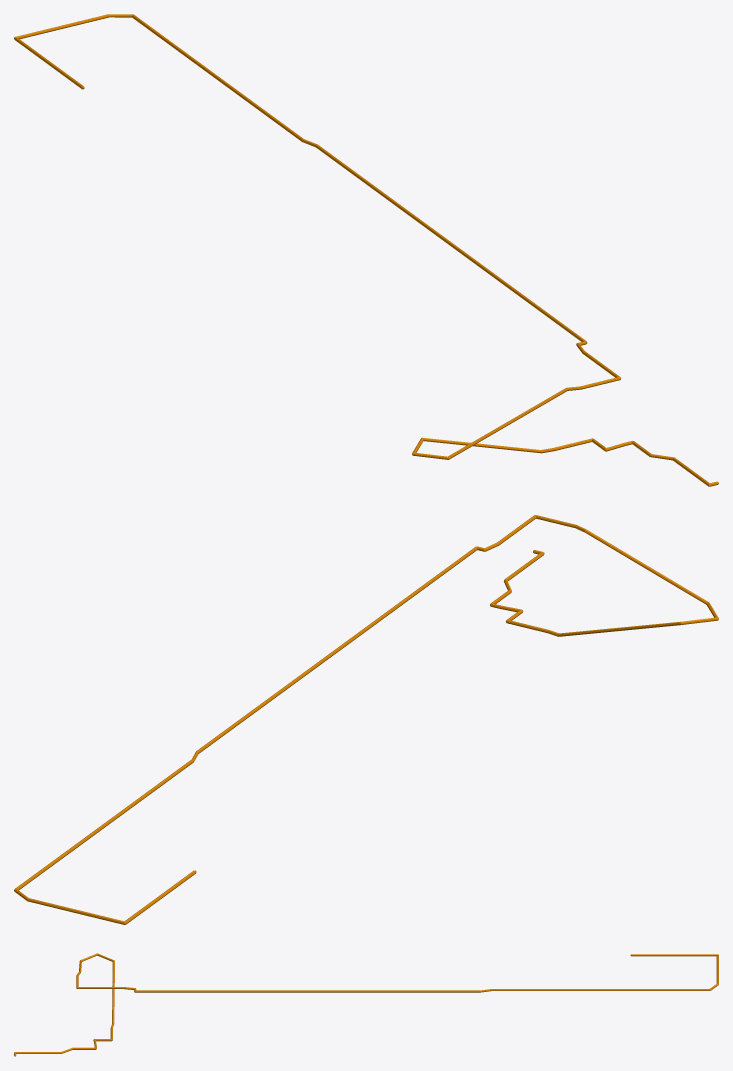
3 views of the same model, one above another, from view 1: azimuth 30°, elevation 25°; view 2: azimuth 150°, elevation 25°; view 3: azimuth 270°, elevation 25° (orthographic). The views are drawn at different scales.
Size of the model in its own units: 1563 by 520 by 6134.
